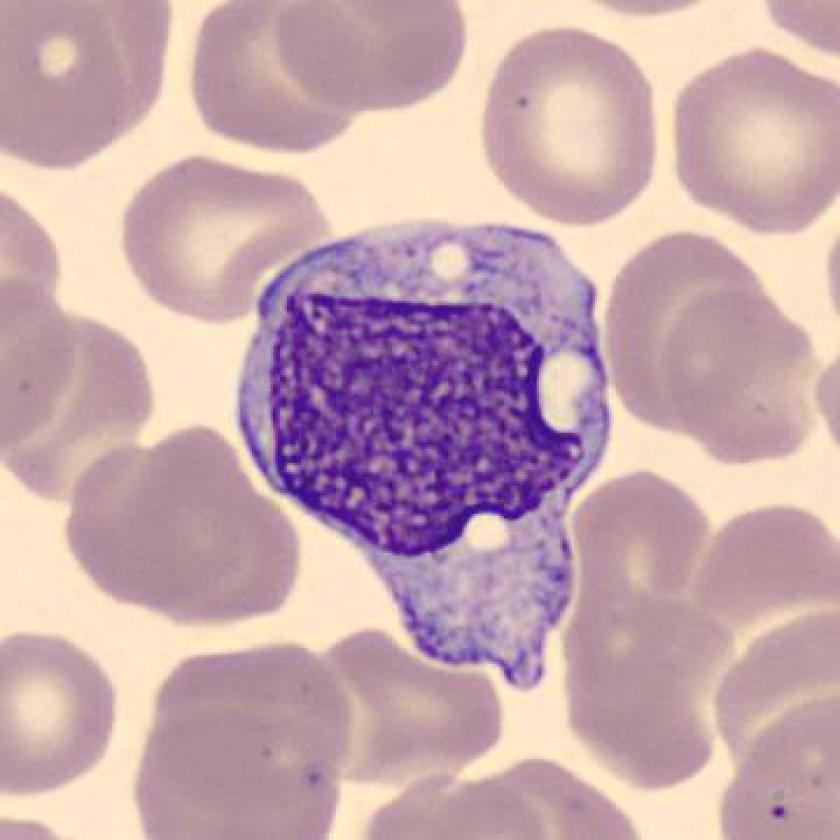monocyte: (216, 205, 654, 702)
